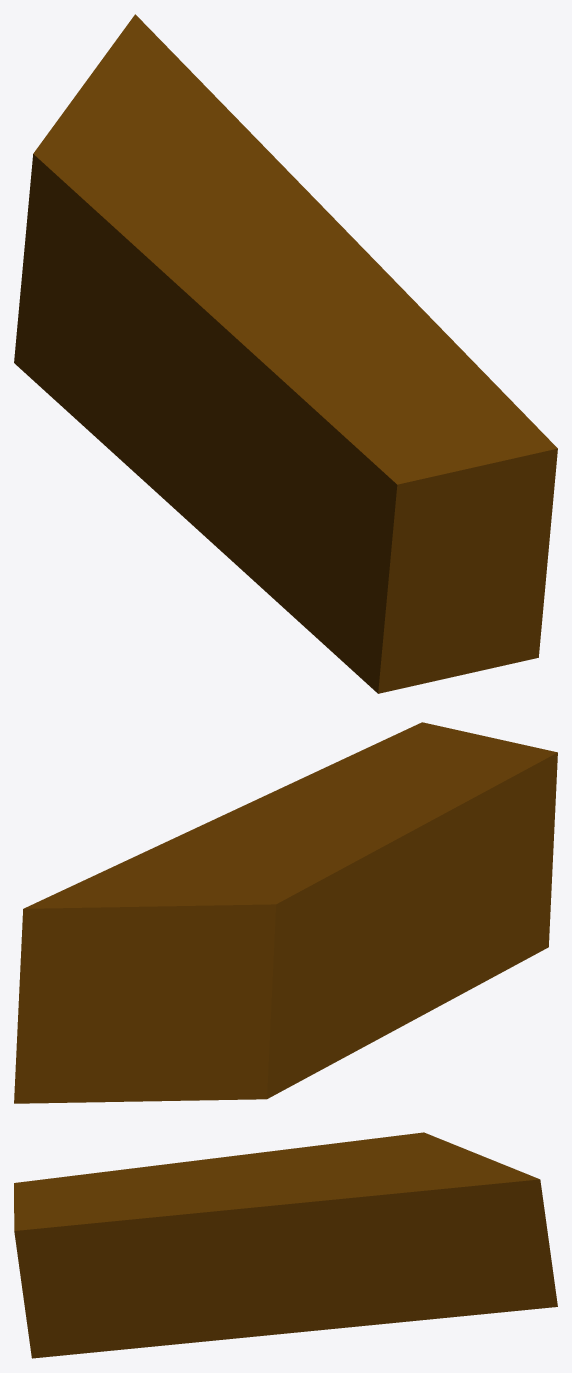
The picture shows the model from 3 angles, top to bottom: view 1: azimuth 30°, elevation 25°; view 2: azimuth 150°, elevation 25°; view 3: azimuth 270°, elevation 25°; orthographic projection. The views are drawn at different scales.
Parts seen in each view (by area): view 1: 右11; view 2: 右11; view 3: 右11.
Part boxes in pixels (x1,y1,x2,y2): 右11: (14,14,557,693); 右11: (14,722,557,1103); 右11: (14,1132,557,1358).
Bounding box in the file's own units: 16.76 × 24.92 × 65.49.
